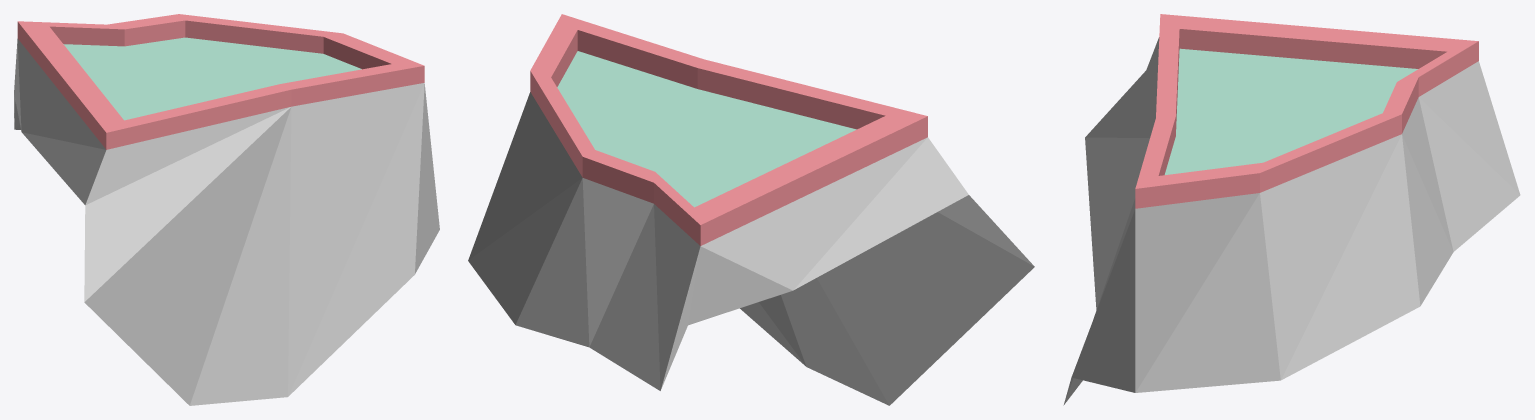
File: CastalMound.fbx
3 views of the same model, side by side, from view 1: azimuth 30°, elevation 25°; view 2: azimuth 150°, elevation 25°; view 3: azimuth 270°, elevation 25° (orthographic). The views are drawn at different scales.
Visible parts, largest first — view 1: big_island_v1.001; view 2: big_island_v1.001; view 3: big_island_v1.001.
Boxes of the visible parts, x1,y1,x2,y2 form: big_island_v1.001: (14, 14, 439, 405); big_island_v1.001: (468, 14, 1034, 405); big_island_v1.001: (1063, 14, 1520, 405).
Size of the model in its own units: 6530 by 4432 by 5878.
